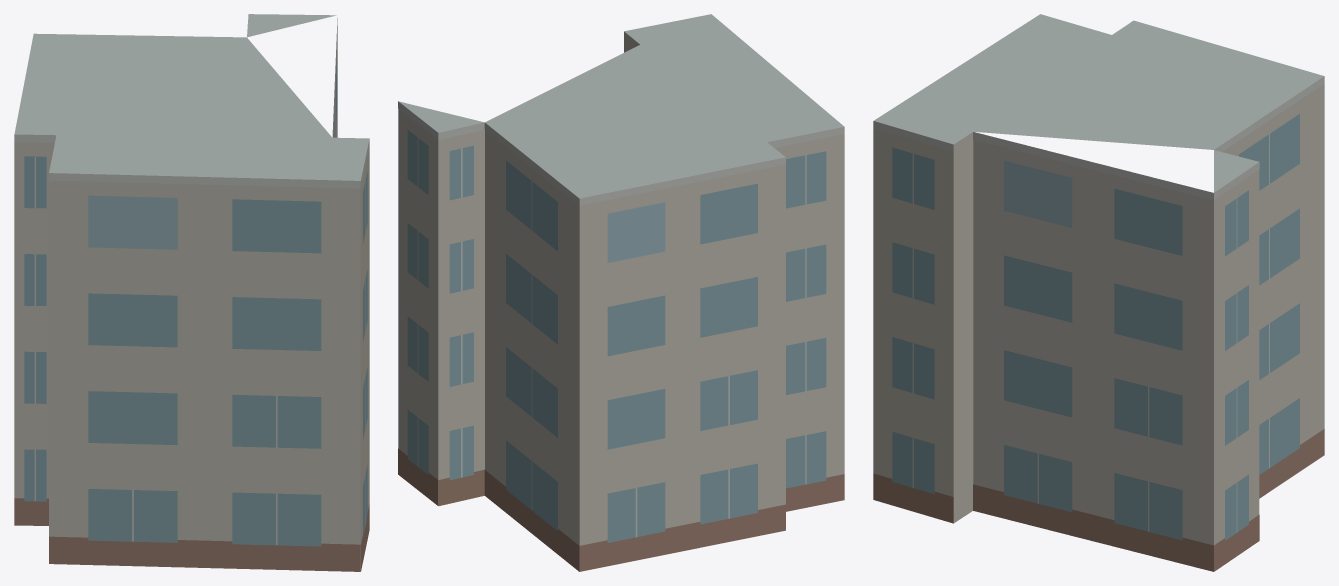
The model's file is survey-upis-32457791.glb.
3 views of the same model, side by side, from view 1: azimuth 30°, elevation 25°; view 2: azimuth 150°, elevation 25°; view 3: azimuth 270°, elevation 25° (orthographic). The views are drawn at different scales.
Visible parts, largest first — view 1: survey-upis-32457791.tmp; view 2: survey-upis-32457791.tmp; view 3: survey-upis-32457791.tmp.
Part boxes in pixels (bbox=[...]): survey-upis-32457791.tmp: bbox=[14, 14, 369, 571]; survey-upis-32457791.tmp: bbox=[398, 14, 844, 571]; survey-upis-32457791.tmp: bbox=[873, 14, 1324, 571].
Bounding box in the file's own units: 12.61 × 12.45 × 13.44.
